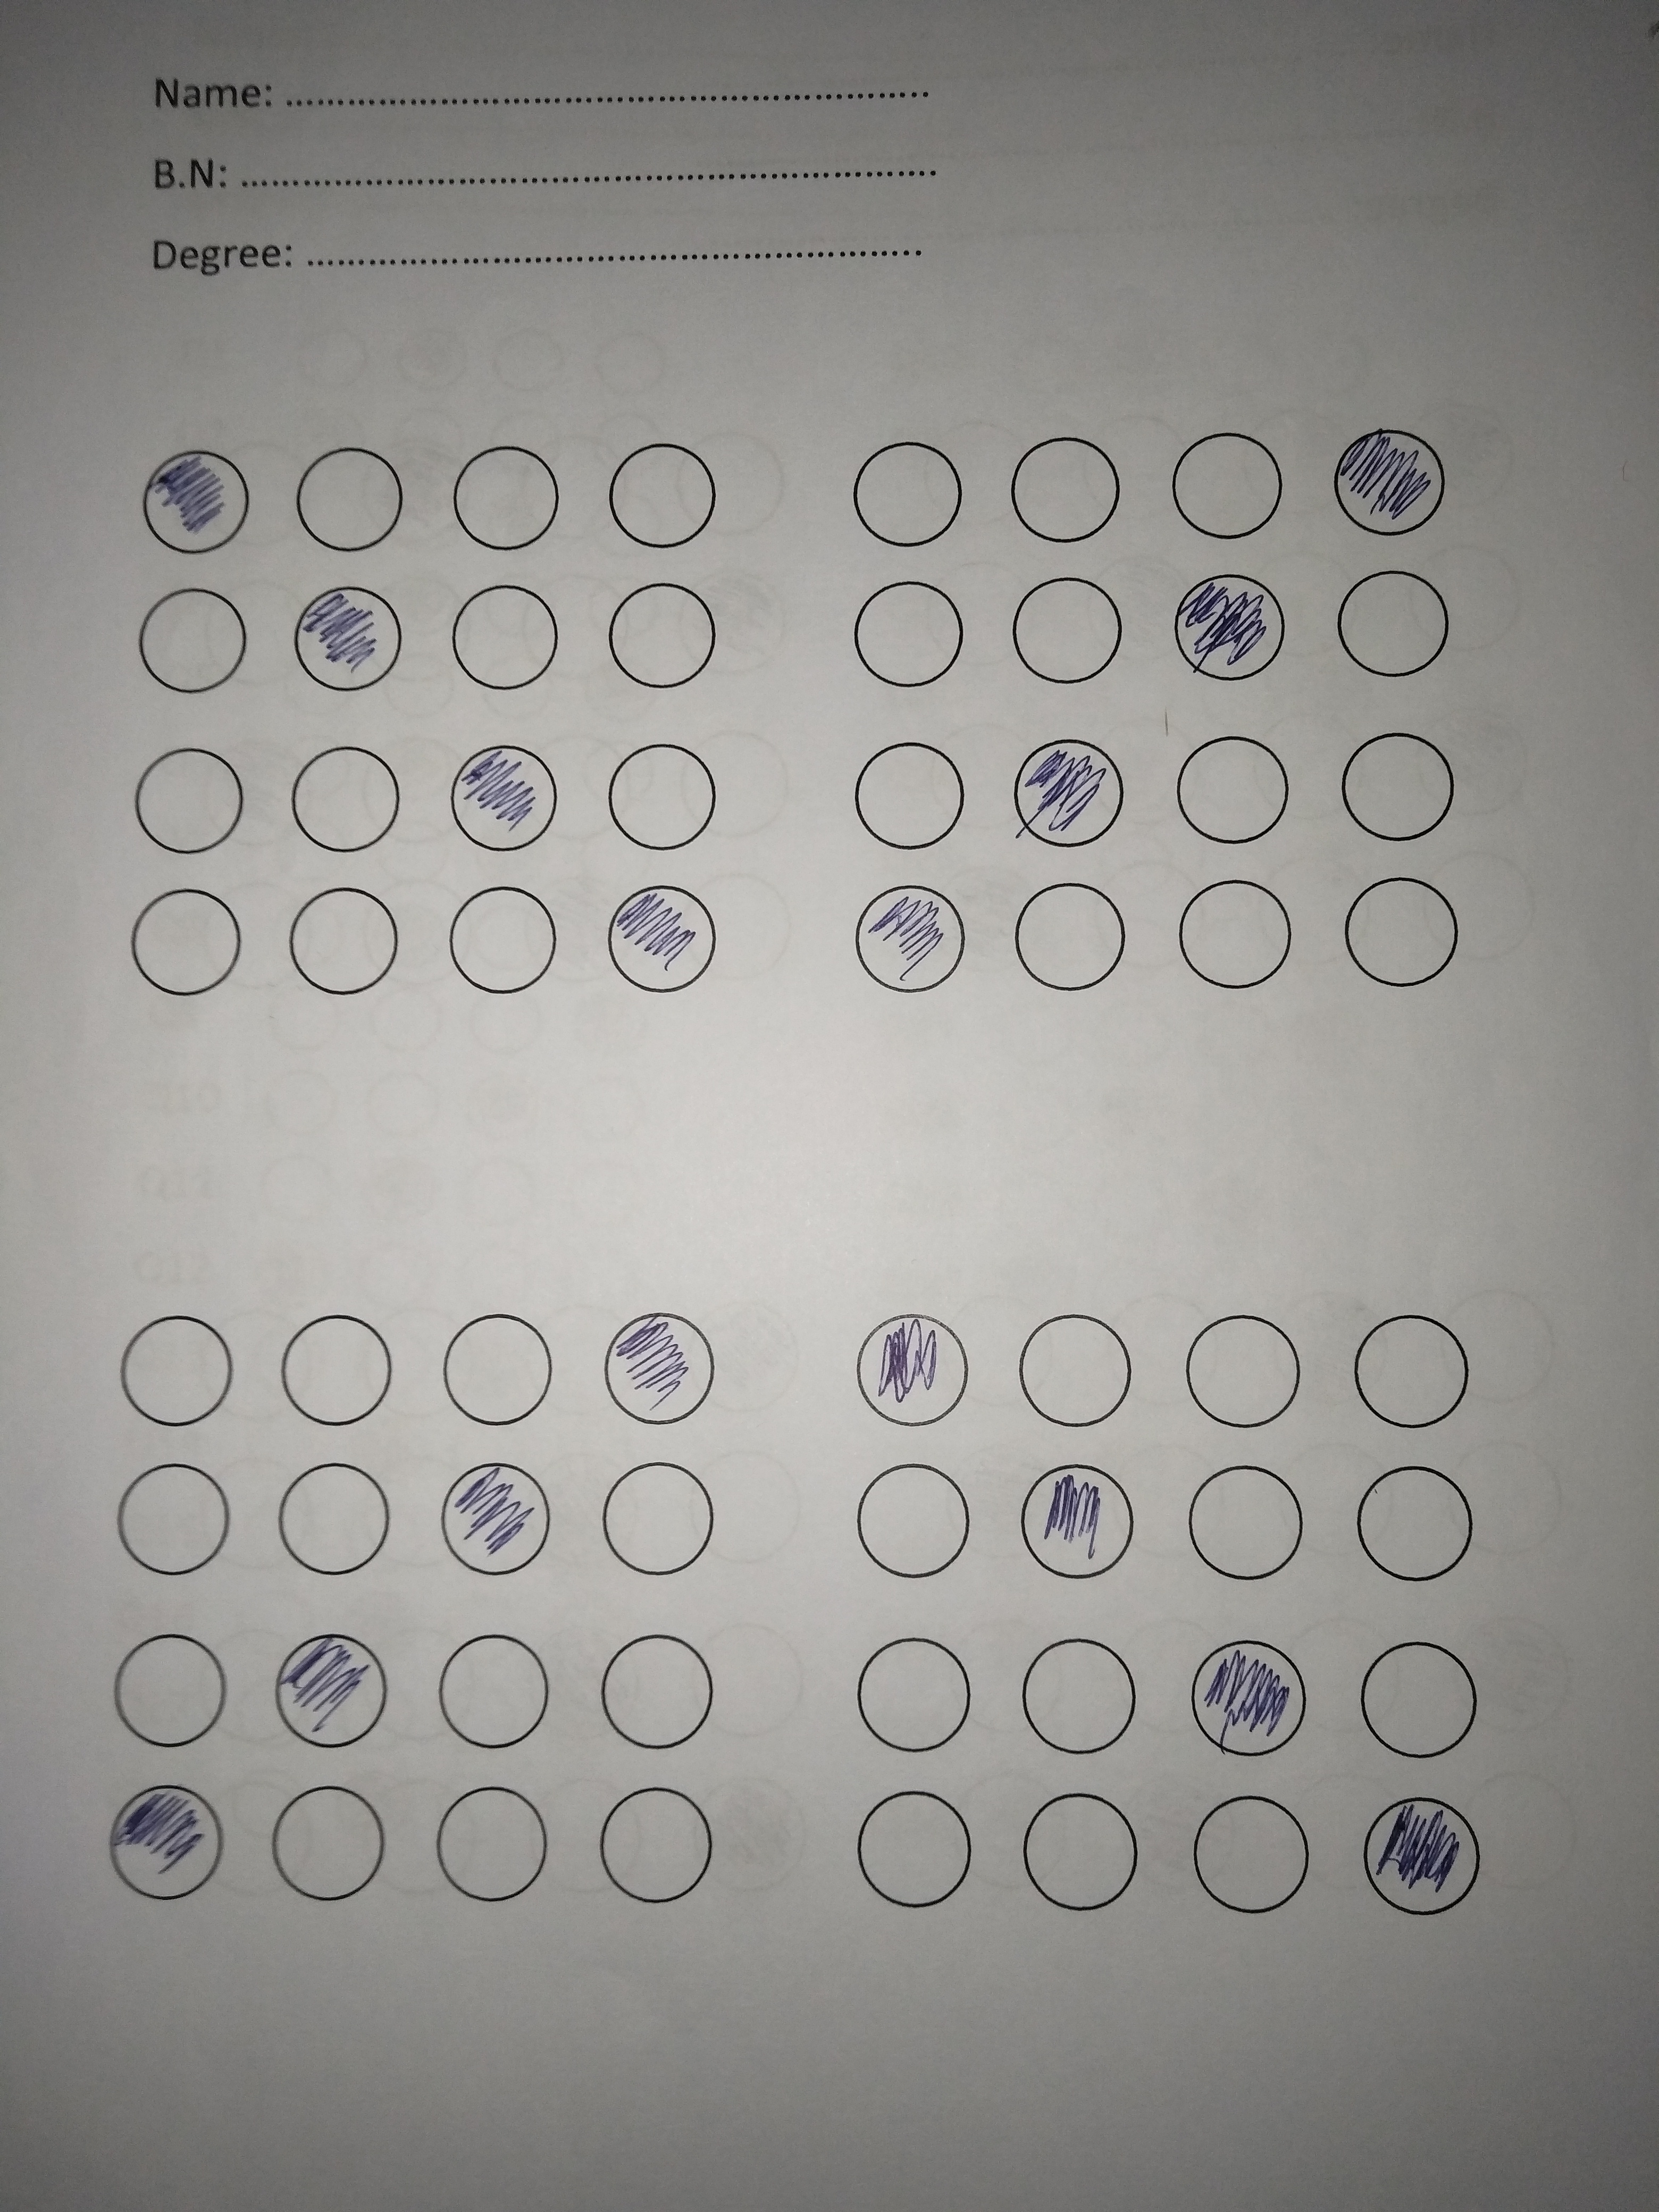not-c: (1347, 1460, 1486, 1613), (849, 1623, 995, 1768), (843, 1789, 995, 1926), (1342, 874, 1492, 1010), (1333, 712, 1469, 860), (1011, 1620, 1140, 1775), (577, 1629, 739, 1750), (1356, 1625, 1486, 1773), (98, 1630, 247, 1757), (98, 1313, 251, 1437), (108, 1456, 254, 1585), (1182, 1794, 1317, 1932), (1176, 871, 1316, 1005), (1178, 1306, 1312, 1446), (584, 1780, 732, 1905), (115, 883, 265, 1007), (594, 1454, 728, 1590), (434, 878, 579, 1003), (1021, 1785, 1166, 1911), (845, 1460, 992, 1581), (422, 1625, 559, 1754), (1009, 1310, 1147, 1439), (1004, 876, 1147, 1000), (1185, 1463, 1328, 1587), (1349, 1301, 1473, 1442), (831, 577, 985, 690), (265, 1782, 408, 1902), (436, 1305, 559, 1442), (842, 735, 979, 859), (850, 427, 979, 556), (1166, 719, 1298, 845), (1166, 421, 1295, 549), (430, 1777, 559, 1902), (275, 1312, 399, 1442), (127, 585, 268, 698), (1324, 566, 1466, 679), (281, 444, 420, 557), (434, 580, 566, 697), (594, 737, 720, 859), (1007, 564, 1127, 691), (443, 437, 573, 554), (598, 582, 728, 698), (277, 1458, 401, 1580), (282, 881, 408, 1001), (1009, 435, 1134, 556), (289, 737, 406, 862), (129, 745, 249, 864), (605, 437, 721, 559)
taken-c: (1361, 1792, 1481, 1918), (268, 1630, 392, 1750), (106, 1782, 230, 1902), (1190, 1635, 1310, 1757), (1019, 1458, 1138, 1581), (601, 1306, 718, 1426), (857, 1312, 971, 1430), (293, 580, 408, 693), (856, 881, 969, 996), (1014, 737, 1127, 852), (443, 1460, 552, 1578), (1335, 425, 1448, 538), (605, 883, 720, 995), (141, 448, 253, 557), (1175, 571, 1286, 681), (451, 742, 559, 853)
